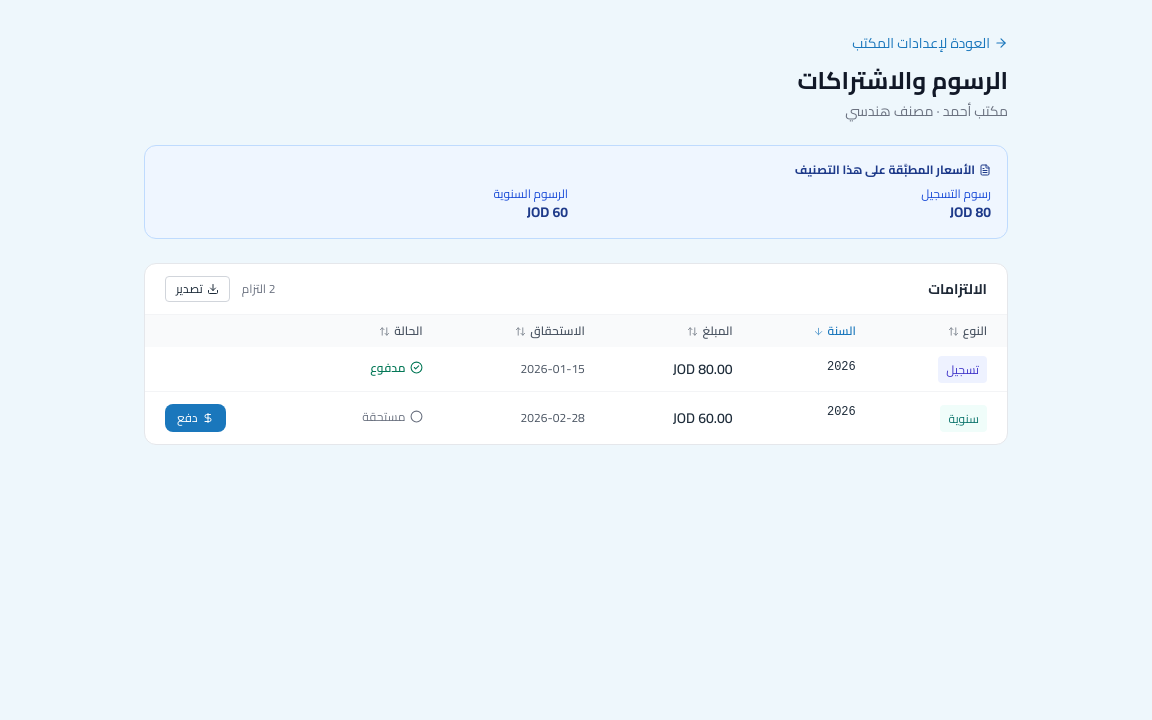
Test: OfficeDues (JORD-79 UI) › submits the pay flow with the entered reference and refreshes
Click the button with test id "pay-btn-2": (195,418) x1=165 y1=404 x2=226 y2=432
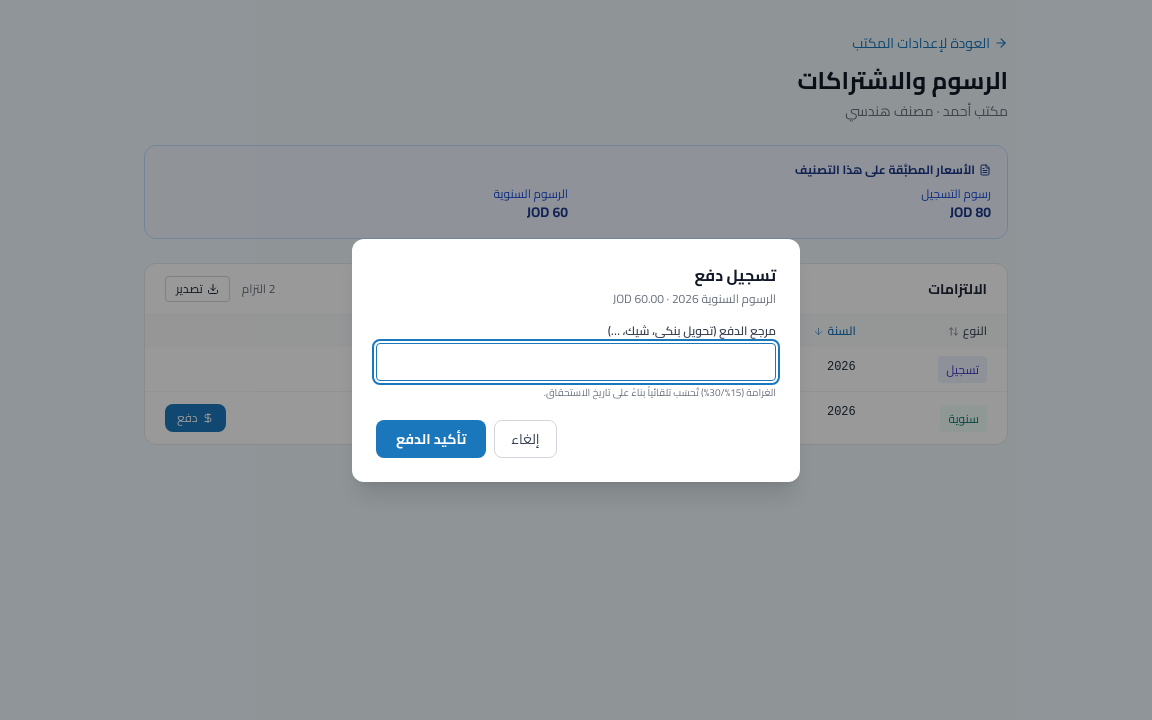
In the field with test id "pay-reference-input": (576,362) x1=376 y1=342 x2=776 y2=380, type "CHECK-2026-77"
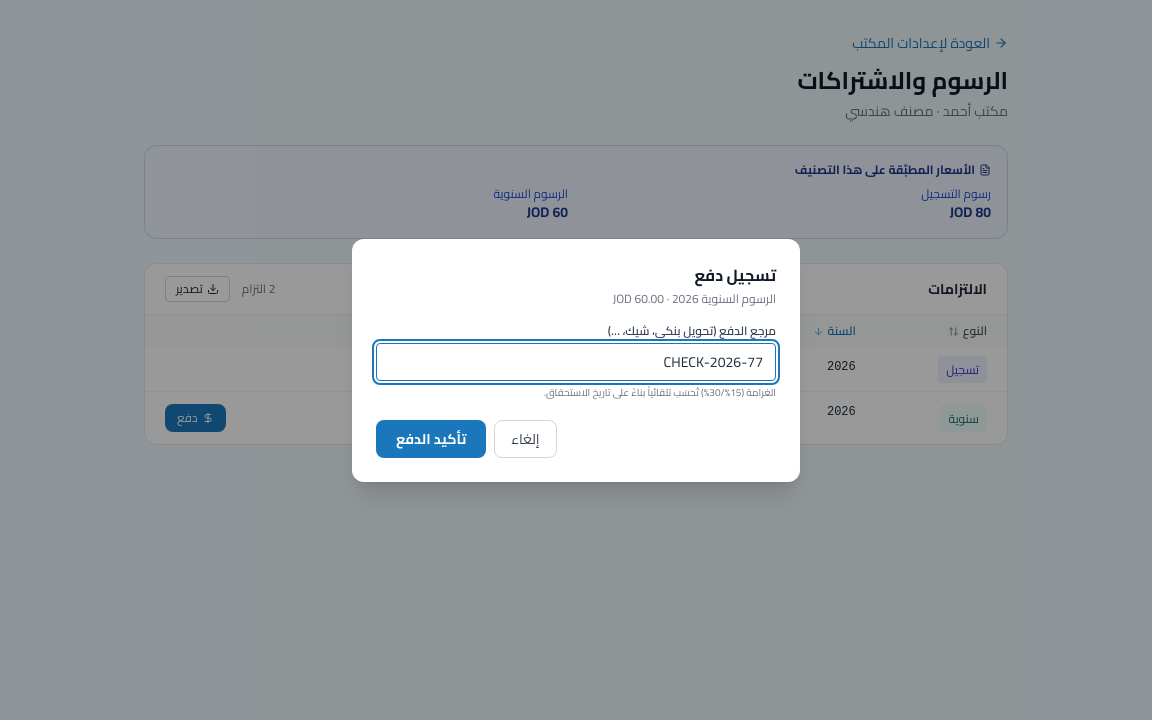
Click the button with test id "pay-submit": (431,438) x1=376 y1=420 x2=486 y2=458
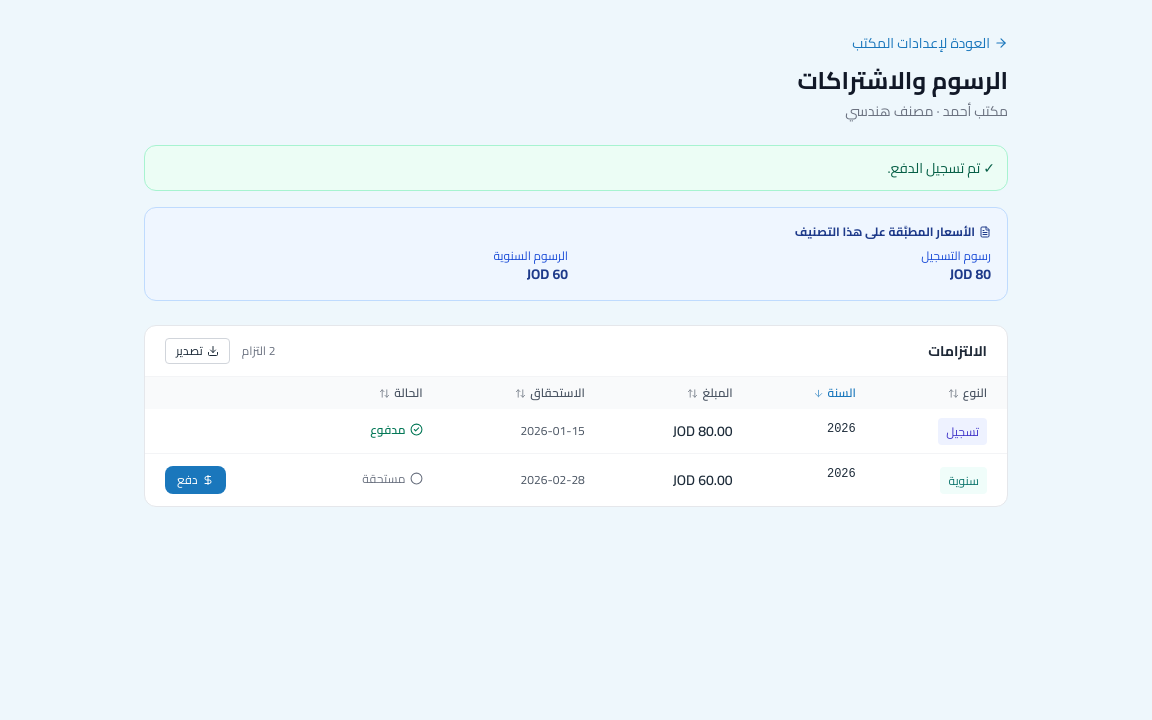
Expected: the dialog with test id "pay-modal" is gone
